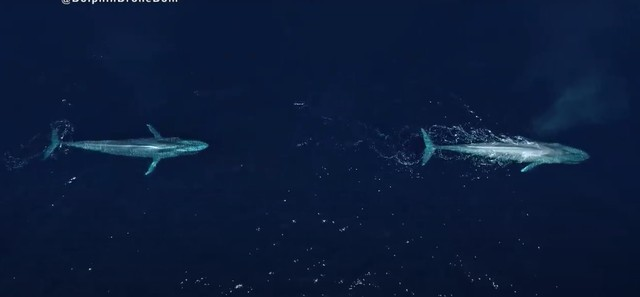whale: (36, 114, 213, 180), (415, 123, 595, 176)
